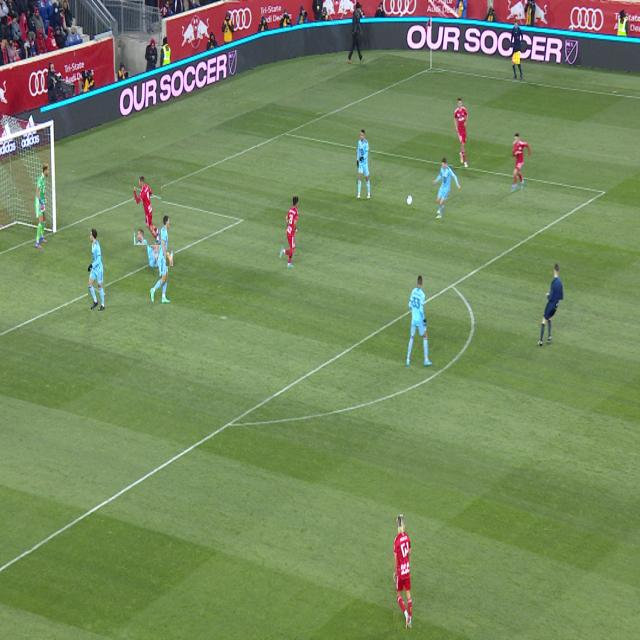football: (407, 195, 412, 205)
goalkeeper: (34, 163, 49, 249)
player: (406, 275, 432, 366), (393, 515, 412, 629), (134, 176, 161, 245), (433, 157, 461, 218), (151, 216, 170, 304), (279, 197, 299, 268), (88, 228, 105, 311), (511, 133, 531, 191), (454, 98, 468, 168), (357, 130, 370, 199), (147, 229, 159, 268), (166, 250, 173, 266)
referee: (538, 264, 563, 345)
